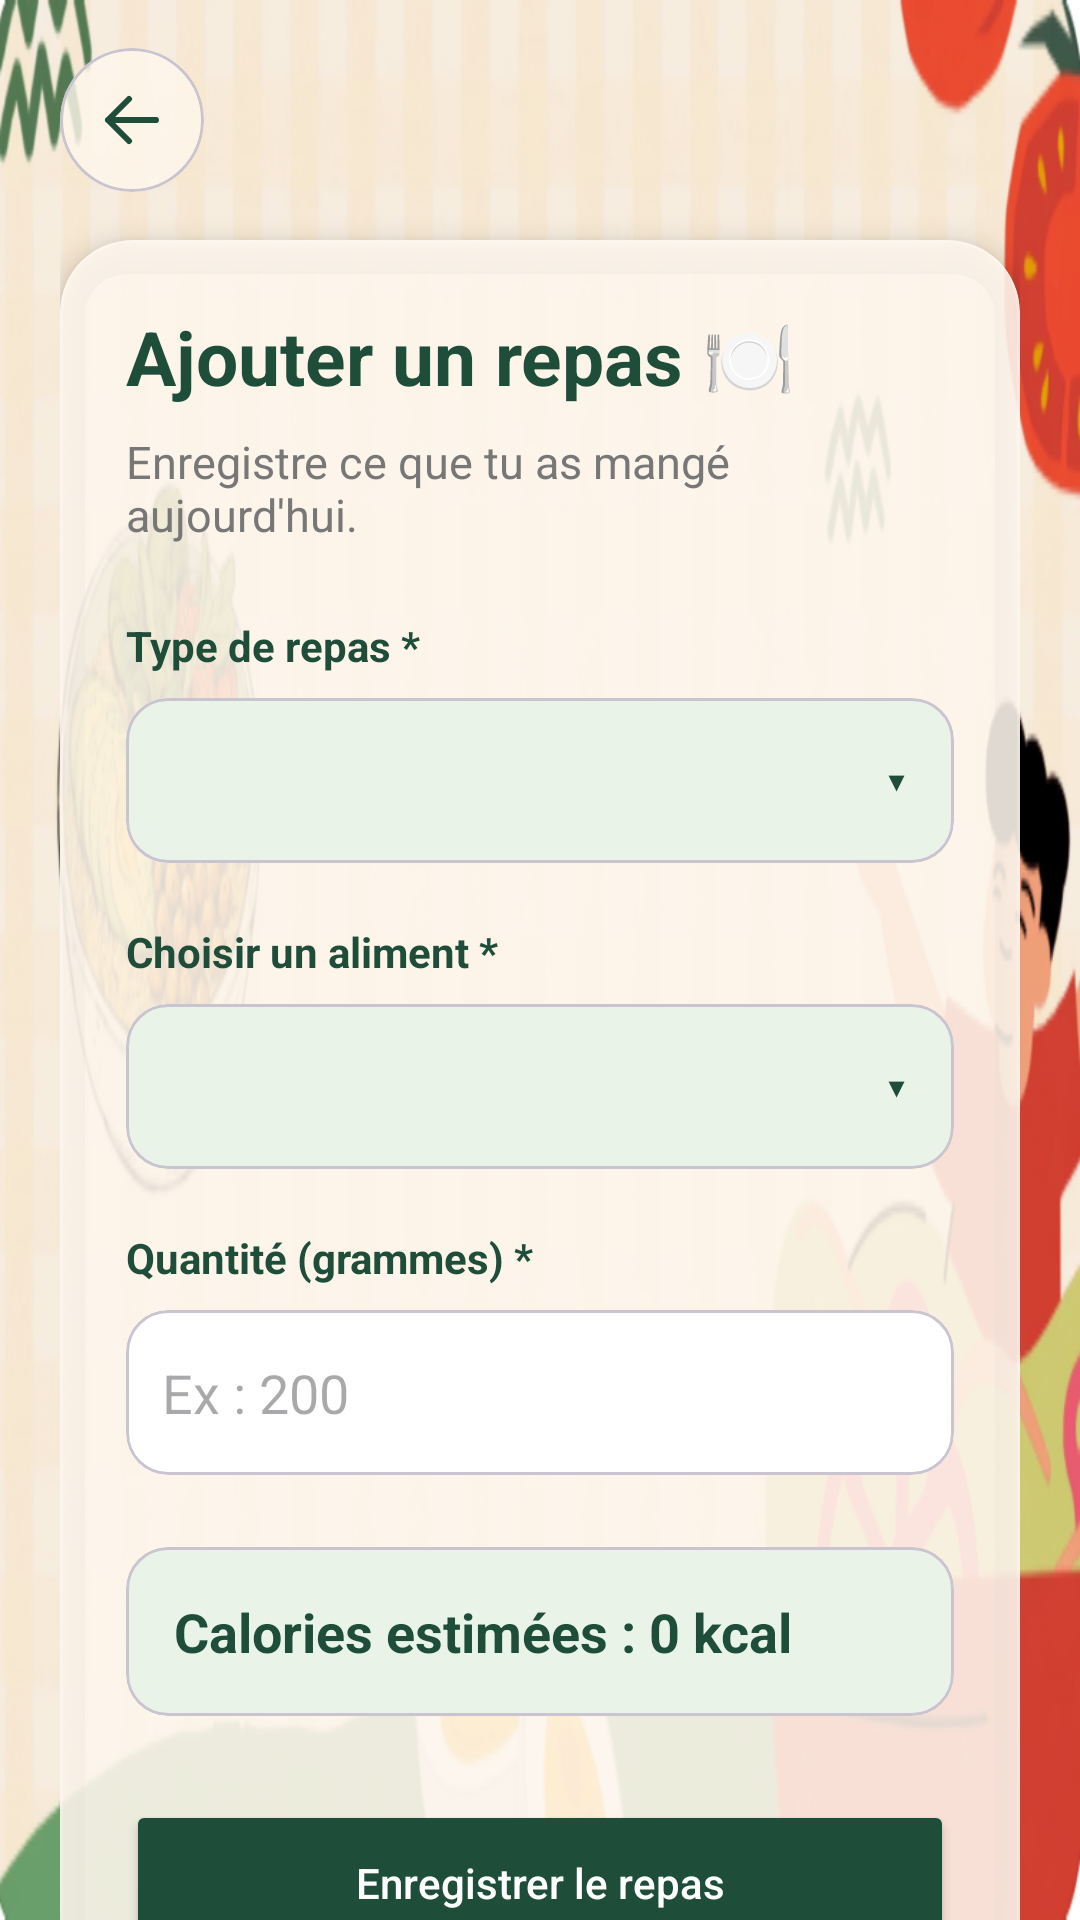

Icons on this 1080*1920 Android screen, each with the point to tap as point (x, y):
Retour: point (132, 120)
